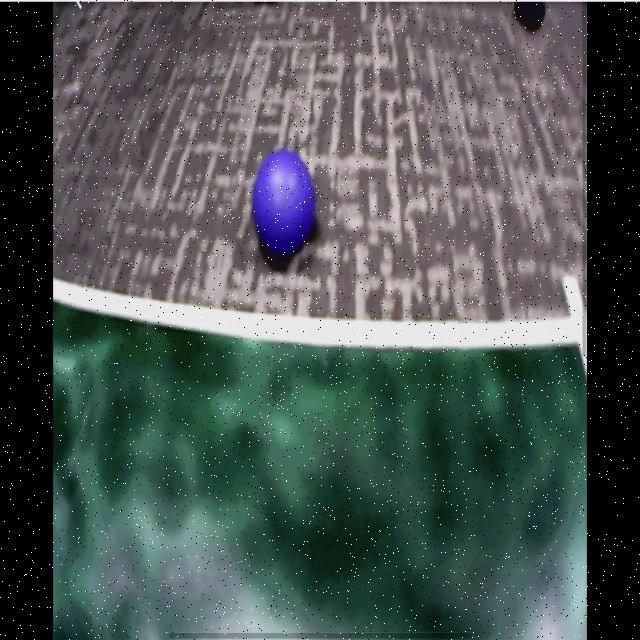ball: (254, 151, 317, 255)
